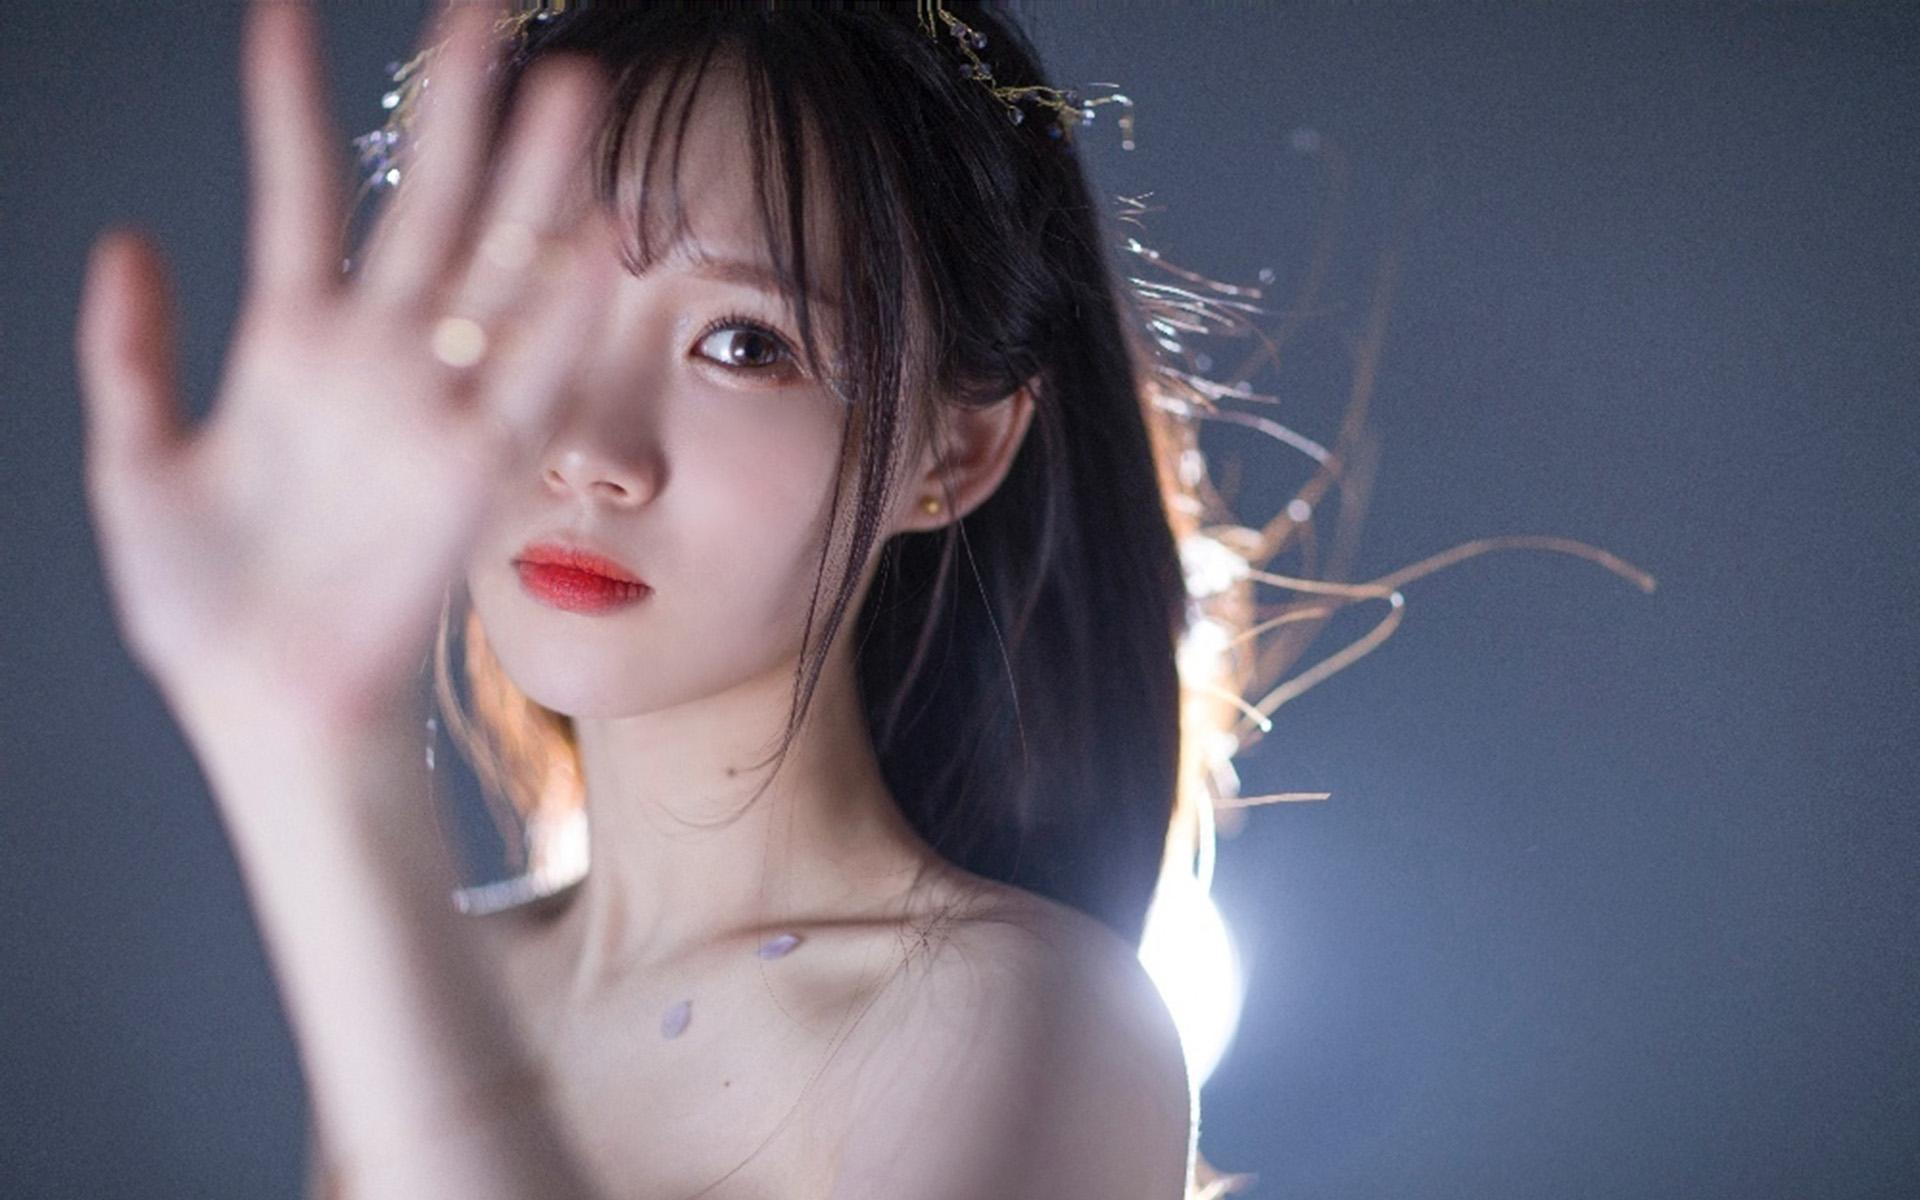person: (268, 59, 1261, 1062)
